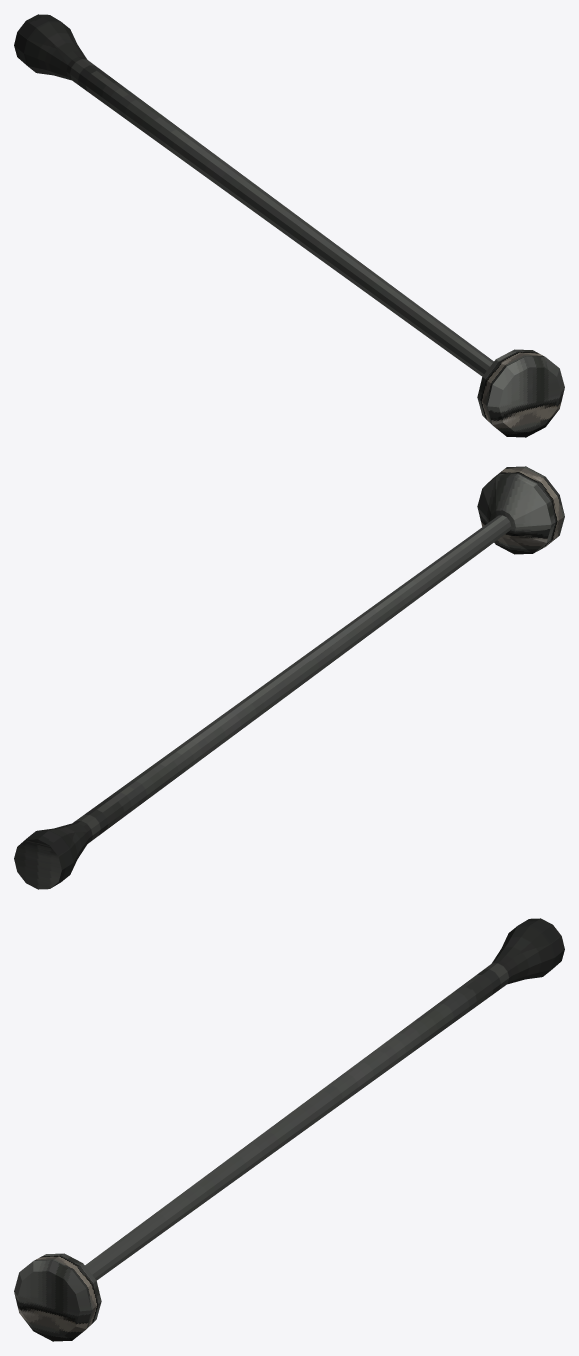
File: pz_street_pole_00.obj
3 renders of one model, top to bottom at view 1: azimuth 30°, elevation 25°; view 2: azimuth 150°, elevation 25°; view 3: azimuth 330°, elevation 25°, orthographic.
Visible parts, largest first — view 1: pz_street_pole_00_|_tapered_native_street_pole, pz_street_pole_00_|_rounded_native_lamp_head; view 2: pz_street_pole_00_|_tapered_native_street_pole, pz_street_pole_00_|_rounded_native_lamp_head; view 3: pz_street_pole_00_|_tapered_native_street_pole, pz_street_pole_00_|_rounded_native_lamp_head.
Boxes of the visible parts, bbox=[...] form: pz_street_pole_00_|_tapered_native_street_pole: bbox=[14, 14, 493, 376]; pz_street_pole_00_|_rounded_native_lamp_head: bbox=[477, 349, 564, 437]; pz_street_pole_00_|_tapered_native_street_pole: bbox=[14, 515, 511, 889]; pz_street_pole_00_|_rounded_native_lamp_head: bbox=[477, 466, 564, 554]; pz_street_pole_00_|_tapered_native_street_pole: bbox=[85, 918, 564, 1280]; pz_street_pole_00_|_rounded_native_lamp_head: bbox=[14, 1253, 101, 1341].
Size of the model in its own units: 0.23 by 0.23 by 2.52.
1 material, 1 textured.
